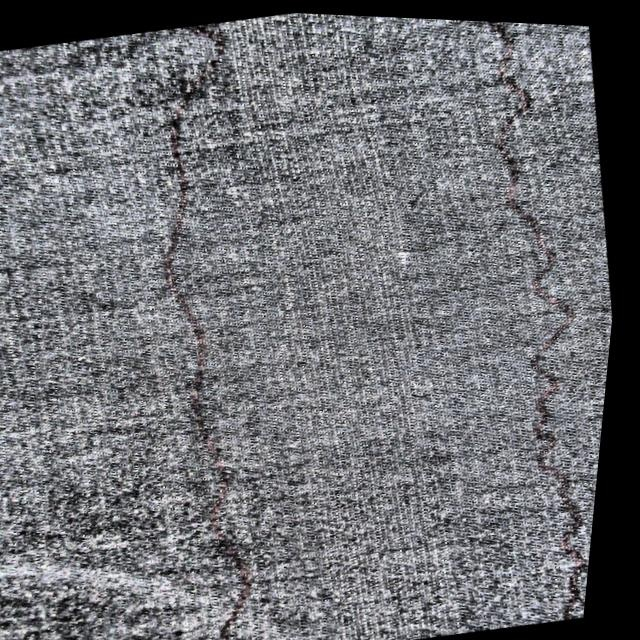Hole: (199, 3, 518, 640)
